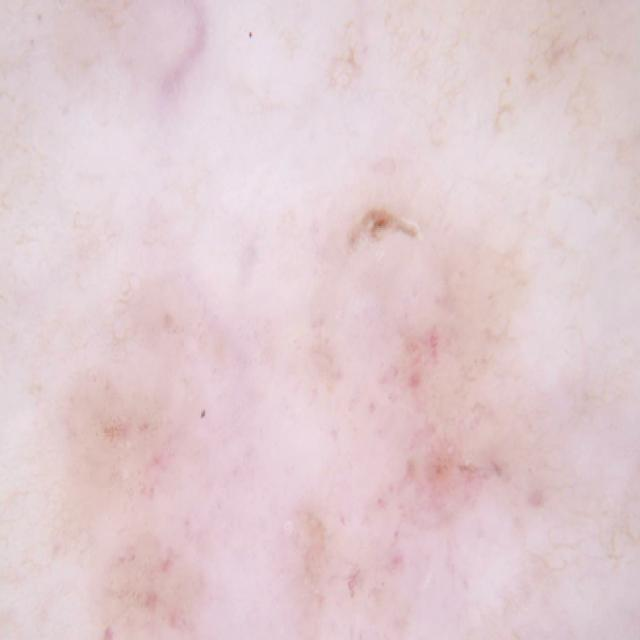Carcinoma: (50, 152, 637, 640)
